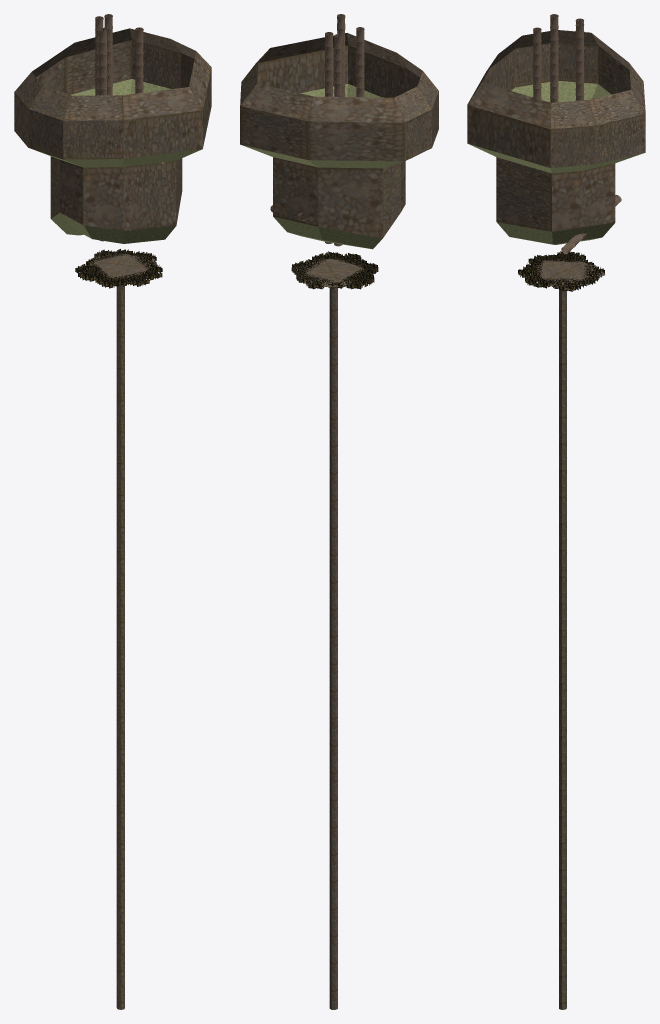
Rendered from Room2.gltf.
3 views of the same model, side by side, from view 1: azimuth 30°, elevation 25°; view 2: azimuth 150°, elevation 25°; view 3: azimuth 270°, elevation 25° (orthographic).
Parts seen in each view (by area): view 1: Cube, Roots; view 2: Cube, Roots; view 3: Cube, Roots.
Part boxes in pixels (bbox=[...]): Cube: bbox=[14, 14, 211, 1009]; Roots: bbox=[75, 249, 162, 288]; Cube: bbox=[240, 14, 438, 1009]; Roots: bbox=[291, 251, 378, 289]; Cube: bbox=[467, 14, 645, 1009]; Roots: bbox=[518, 251, 604, 291].
Bounding box in the file's own units: 97.13 × 508 × 83.74.
5 materials, 5 textured.
